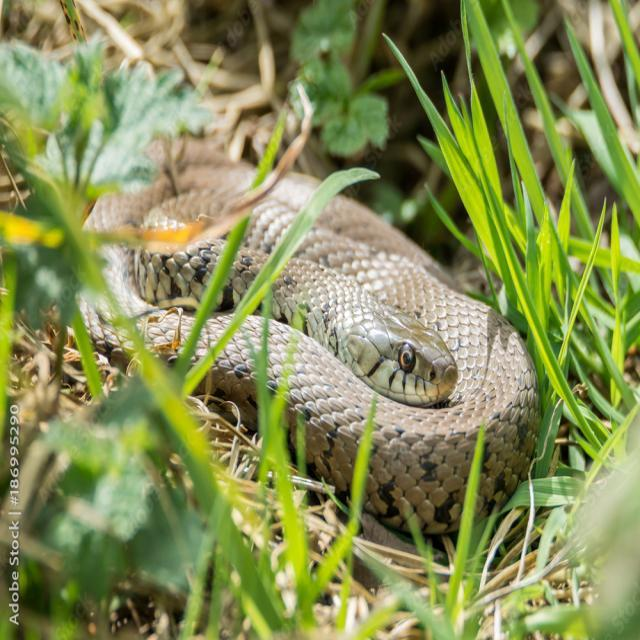Snake: (52, 76, 566, 528)
